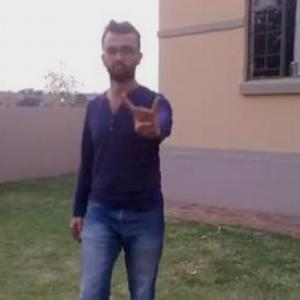takeoff-hand: (118, 82, 170, 140)
